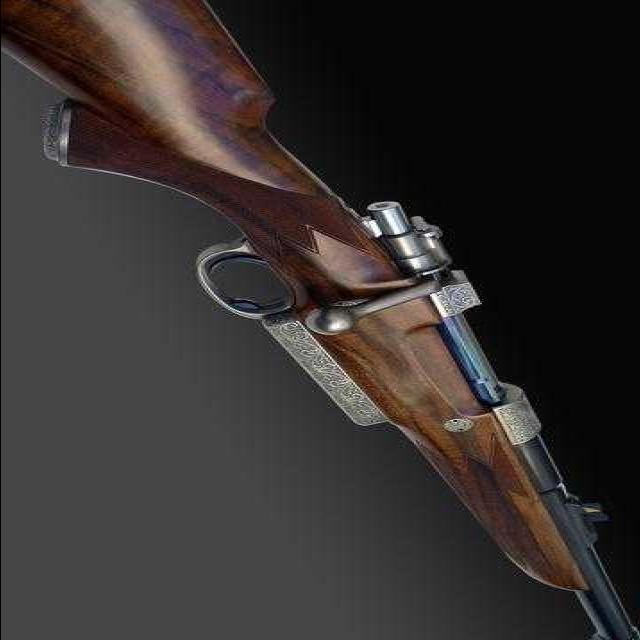heavyweapon: (1, 1, 640, 637)
